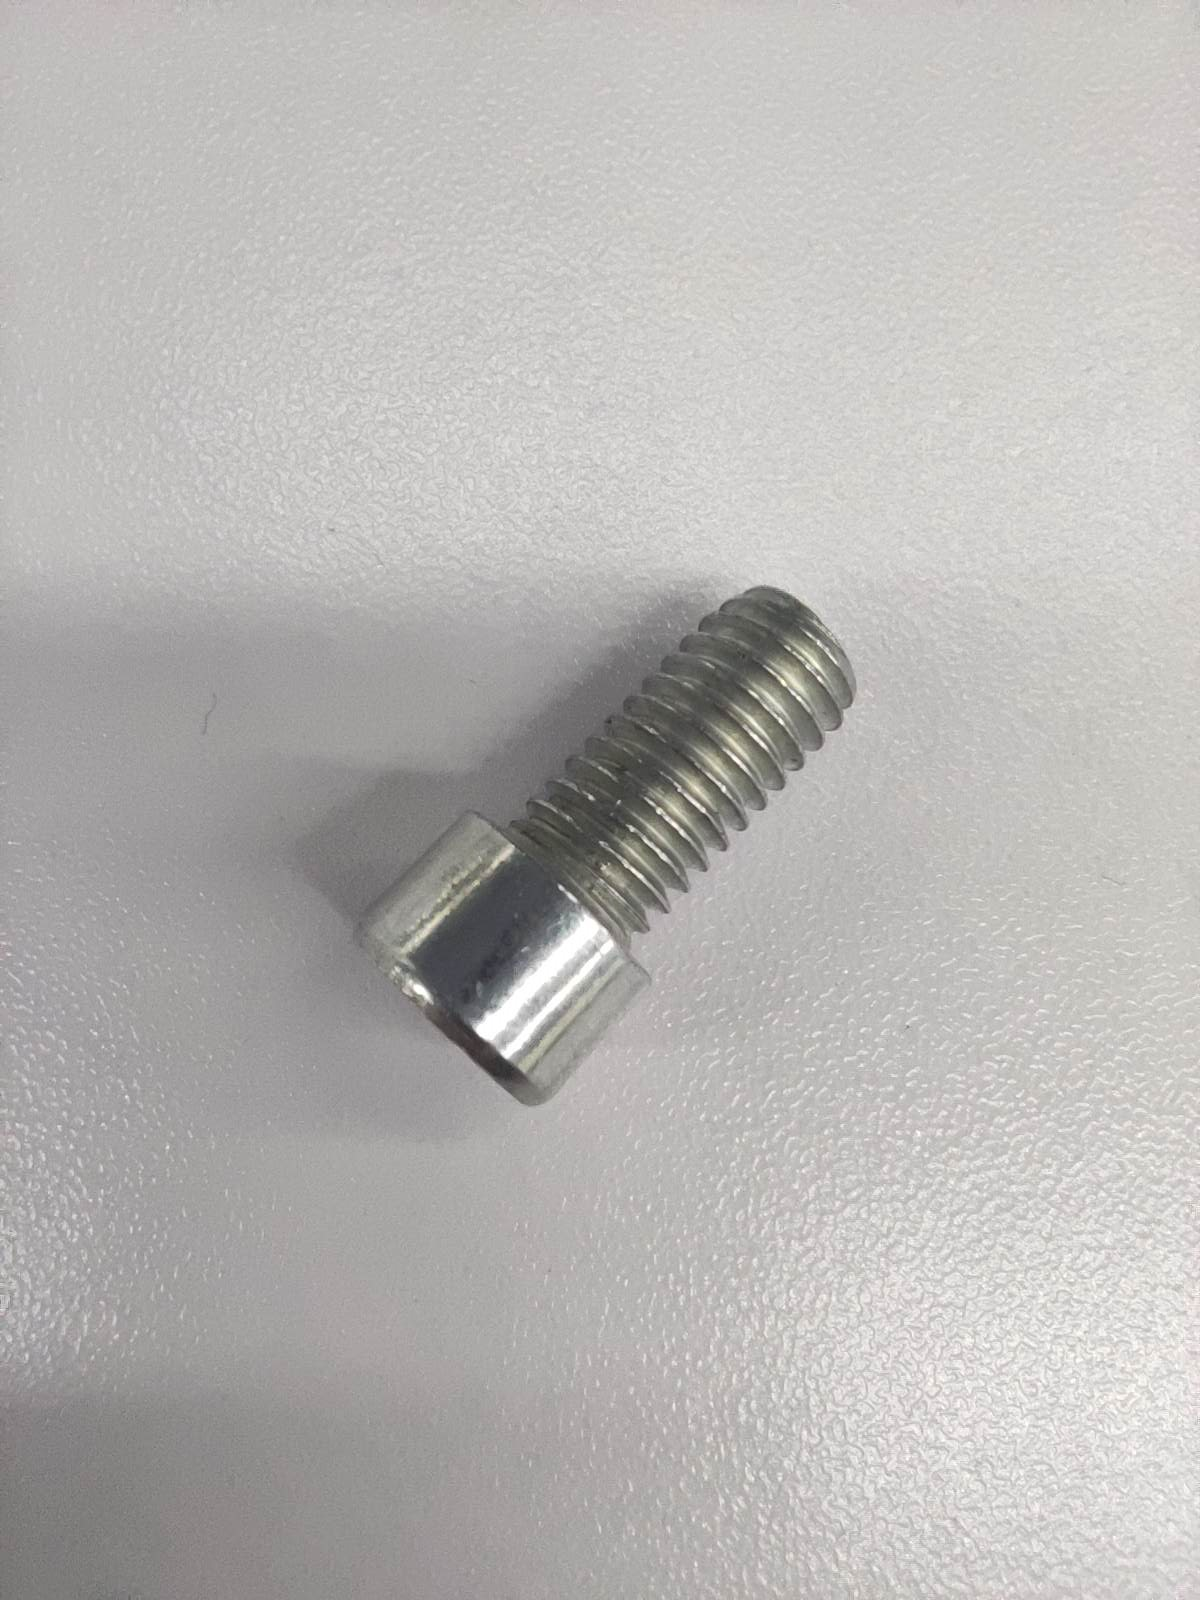螺钉银: (354, 585, 858, 1107)
